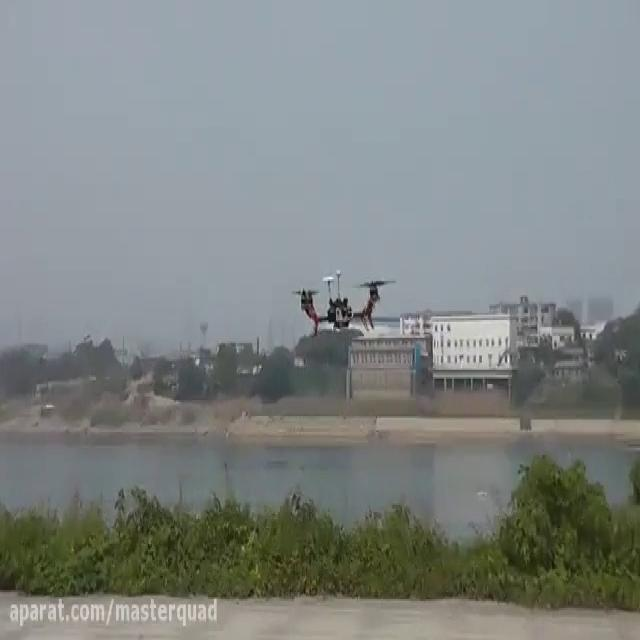drone: (285, 263, 398, 336)
